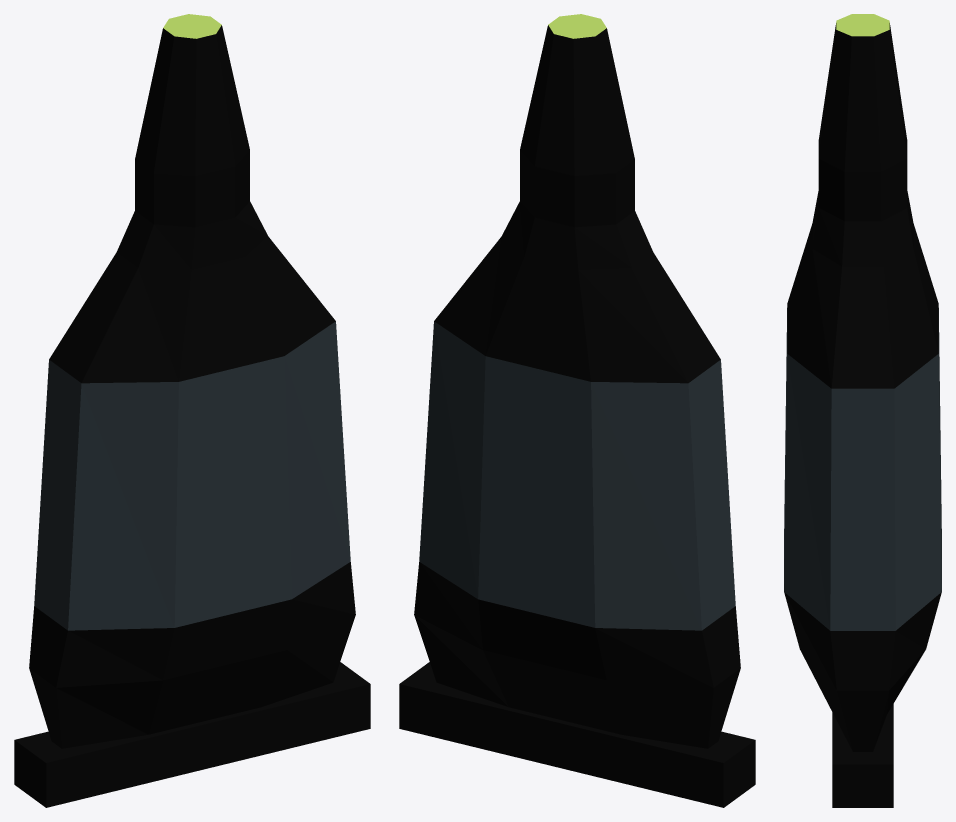
Rendered from create_super_glue.obj.
The picture shows the model from 3 angles, left to right: view 1: azimuth 30°, elevation 25°; view 2: azimuth 150°, elevation 25°; view 3: azimuth 270°, elevation 25°; orthographic projection. The views are drawn at different scales.
Parts seen in each view (by area): view 1: squeeze_tube, crimped_tail; view 2: squeeze_tube, crimped_tail; view 3: squeeze_tube, crimped_tail.
Part boxes in pixels (x1,y1,x2,y2): squeeze_tube: (29, 14, 355, 748); crimped_tail: (14, 662, 370, 807); squeeze_tube: (414, 14, 740, 748); crimped_tail: (399, 662, 755, 807); squeeze_tube: (784, 14, 941, 751); crimped_tail: (832, 704, 893, 807).
Bounding box in the file's own units: 0.3312 × 0.7125 × 0.1444.
